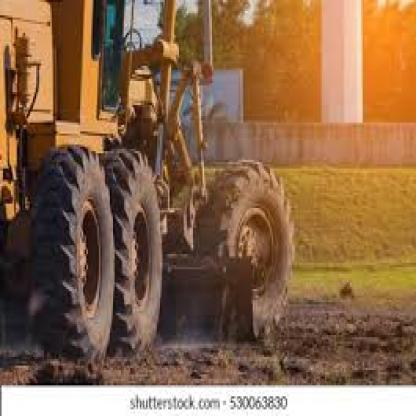bull_dozer/loader/grader: (4, 0, 326, 366)
